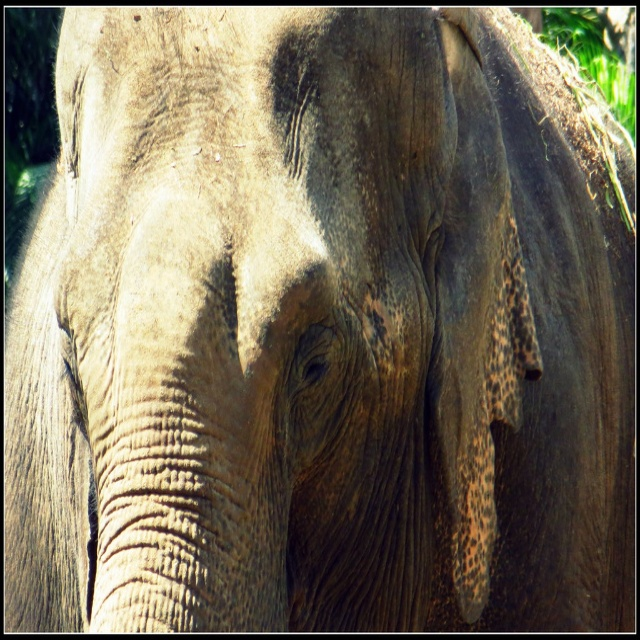Elephant: (0, 11, 629, 627)
